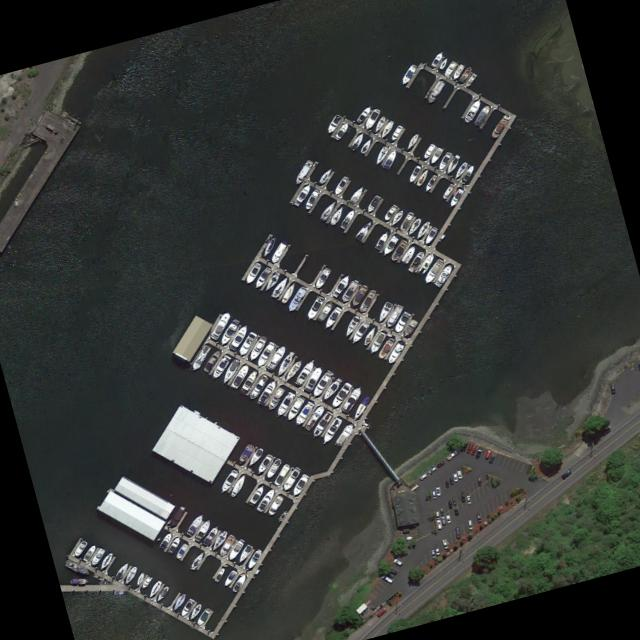ship: (210, 310, 233, 340), (341, 383, 364, 413), (310, 409, 333, 439), (330, 380, 353, 409), (320, 416, 343, 445), (295, 356, 317, 386), (190, 343, 212, 373), (266, 342, 288, 371), (303, 363, 325, 392), (310, 371, 332, 399), (304, 403, 326, 431), (228, 322, 250, 350), (321, 375, 343, 402), (286, 285, 308, 312), (423, 257, 445, 284), (274, 390, 295, 418), (257, 377, 278, 405), (248, 372, 269, 400), (293, 158, 314, 186), (256, 339, 276, 368), (294, 399, 315, 426), (230, 362, 251, 389), (237, 330, 258, 357), (218, 319, 239, 346), (256, 485, 277, 512), (292, 181, 313, 208), (350, 319, 371, 345), (331, 272, 352, 298), (433, 262, 454, 288), (351, 394, 371, 421), (270, 274, 291, 299), (201, 348, 222, 373), (425, 79, 446, 104), (335, 420, 355, 446), (219, 468, 239, 494), (228, 472, 248, 498), (490, 113, 510, 139), (275, 352, 295, 377), (322, 305, 342, 330), (305, 296, 325, 321), (211, 355, 231, 380), (185, 511, 205, 536), (286, 395, 305, 421), (240, 367, 259, 393), (221, 359, 240, 385), (248, 336, 267, 362), (64, 558, 91, 576), (253, 265, 273, 289), (290, 472, 310, 496), (281, 467, 301, 491), (267, 385, 286, 410), (194, 517, 213, 542), (385, 303, 404, 328), (283, 359, 302, 383), (407, 249, 426, 273), (389, 238, 408, 262), (399, 62, 418, 86), (340, 279, 359, 302), (255, 452, 274, 475), (464, 97, 483, 120), (369, 330, 387, 354), (358, 289, 376, 313), (386, 341, 404, 365), (218, 533, 236, 557), (210, 529, 228, 553), (319, 198, 337, 222), (166, 507, 186, 528), (226, 539, 245, 561), (381, 234, 400, 256), (343, 314, 361, 337), (314, 266, 332, 289), (316, 299, 334, 322), (237, 442, 255, 465), (248, 483, 266, 506), (474, 103, 492, 126), (393, 310, 411, 333), (418, 251, 436, 274), (350, 285, 368, 307), (244, 262, 262, 284), (265, 457, 283, 479), (202, 524, 220, 546), (303, 188, 321, 210), (355, 219, 373, 241), (339, 207, 357, 229), (348, 183, 366, 205), (325, 113, 343, 135), (270, 241, 287, 264), (376, 300, 393, 323), (267, 493, 284, 516), (364, 107, 381, 130), (237, 542, 254, 564), (377, 338, 394, 360), (280, 281, 296, 304), (231, 572, 248, 593), (247, 447, 264, 468), (400, 243, 417, 264), (414, 219, 431, 240), (333, 174, 350, 195), (171, 591, 187, 613), (398, 210, 414, 232), (329, 204, 345, 226), (445, 153, 461, 175), (263, 272, 280, 292), (89, 546, 106, 566), (114, 560, 131, 580), (333, 121, 350, 141), (246, 548, 262, 569), (147, 578, 163, 599), (196, 606, 212, 627), (448, 186, 464, 207), (373, 145, 389, 166), (349, 131, 365, 152), (437, 150, 452, 172), (382, 148, 397, 170), (180, 597, 196, 617), (190, 550, 206, 570), (158, 530, 174, 550), (406, 216, 422, 236), (374, 230, 390, 250), (423, 173, 439, 193), (379, 119, 395, 139), (356, 103, 372, 123), (362, 325, 377, 346), (262, 236, 277, 257), (99, 550, 114, 571), (453, 159, 468, 180), (389, 208, 405, 227), (365, 194, 381, 213), (402, 318, 418, 337), (123, 564, 138, 584), (167, 535, 182, 555), (415, 167, 430, 187), (318, 166, 334, 184), (82, 543, 97, 562), (188, 602, 203, 621), (458, 64, 473, 83), (423, 226, 438, 245), (405, 131, 420, 150), (373, 114, 388, 133), (73, 539, 88, 557), (223, 569, 238, 587), (383, 203, 398, 221), (408, 164, 422, 183), (156, 584, 170, 602), (443, 59, 457, 77), (429, 146, 443, 164), (462, 162, 475, 181), (175, 542, 189, 559), (451, 63, 465, 80), (430, 50, 444, 67), (423, 142, 436, 159), (441, 184, 454, 200), (390, 124, 403, 140), (360, 138, 373, 154), (140, 574, 153, 589), (214, 566, 226, 582), (465, 72, 477, 86), (135, 571, 146, 586), (439, 55, 449, 69), (91, 572, 106, 581), (70, 578, 89, 584), (98, 580, 111, 585)
small-vehicle: (445, 449, 459, 461), (375, 607, 387, 618), (560, 468, 572, 479), (381, 574, 393, 583), (475, 445, 483, 458), (441, 537, 449, 549), (465, 442, 473, 454), (387, 566, 397, 575), (418, 472, 428, 481), (488, 451, 496, 462), (384, 570, 395, 578), (393, 557, 402, 566), (427, 466, 436, 475), (484, 449, 492, 459), (460, 442, 468, 452), (435, 460, 445, 468), (609, 381, 615, 394), (470, 445, 477, 456), (456, 468, 463, 479), (467, 518, 473, 530), (453, 504, 459, 516), (436, 518, 442, 529), (475, 512, 481, 523), (434, 544, 440, 555), (455, 526, 460, 539), (445, 513, 451, 523), (440, 515, 446, 525), (460, 491, 465, 502), (453, 471, 458, 482), (477, 476, 482, 486), (431, 489, 436, 499), (435, 486, 440, 496), (435, 510, 440, 519), (444, 479, 449, 488), (452, 496, 457, 505), (447, 500, 452, 509), (431, 548, 435, 558), (466, 495, 470, 505), (440, 507, 444, 516), (449, 476, 453, 485), (639, 361, 640, 370)
